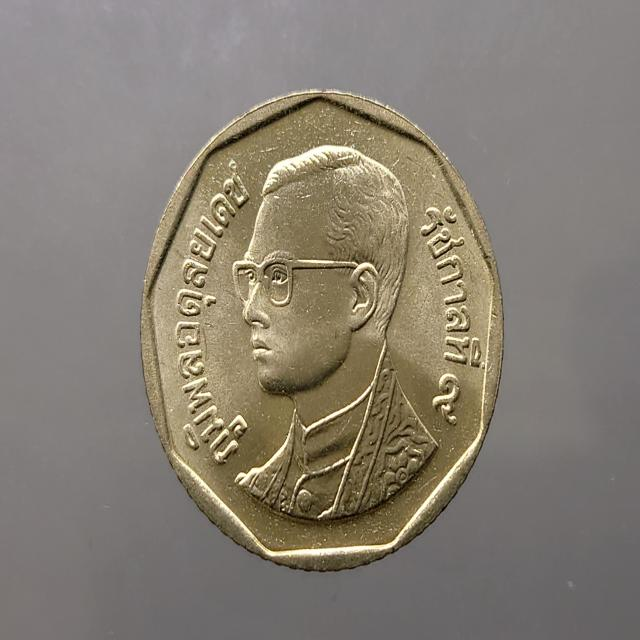5 Bath: (141, 88, 507, 575)
